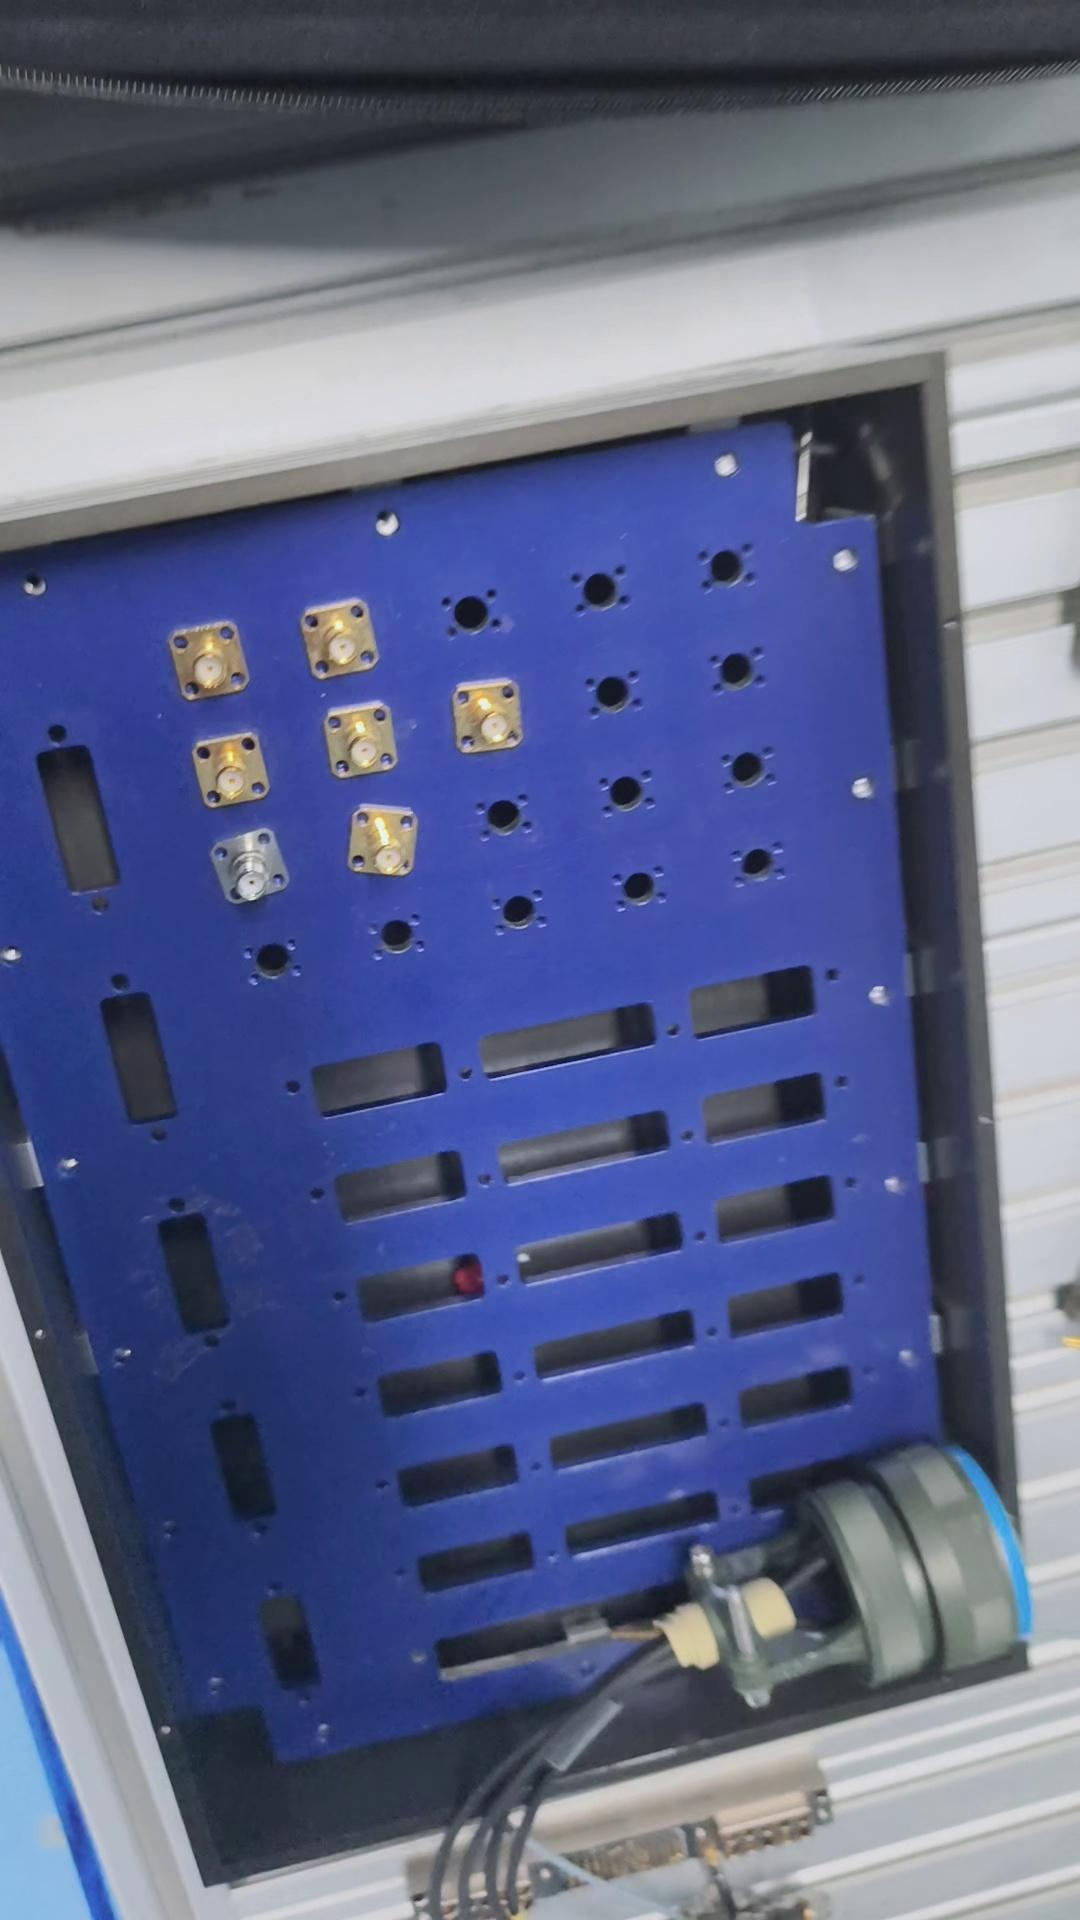SMA: (164, 618, 257, 698), (297, 600, 389, 678), (455, 676, 531, 760), (193, 736, 276, 808), (347, 804, 425, 880), (208, 828, 289, 899), (320, 705, 401, 774)
